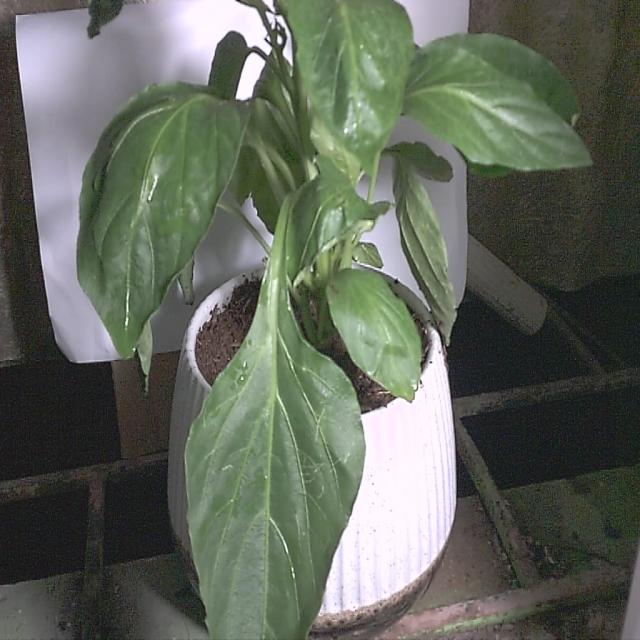Leaf: (183, 296, 368, 639), (74, 77, 252, 357), (402, 22, 596, 182), (283, 1, 412, 176)
